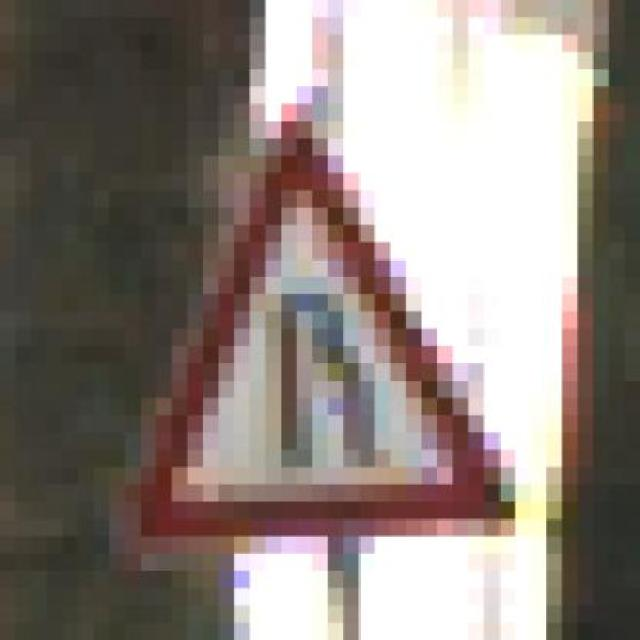-Road narrows on right: (94, 86, 531, 571)
